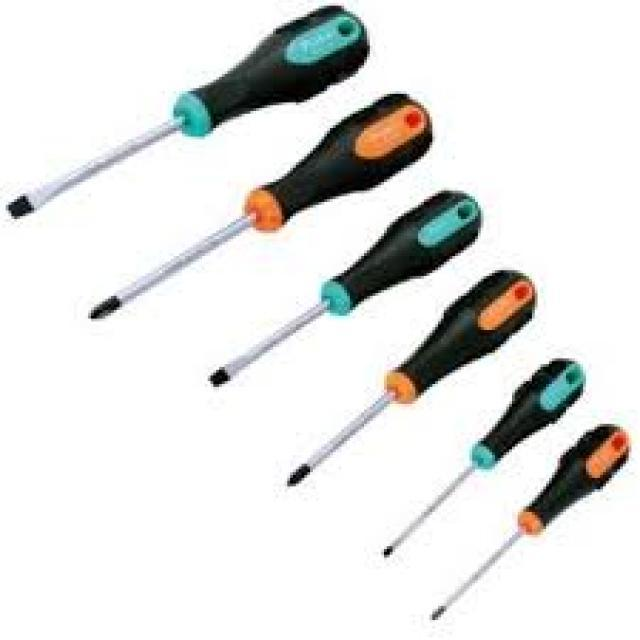screwdriver: (85, 87, 441, 326), (4, 0, 374, 222), (280, 268, 545, 490), (204, 189, 483, 391), (377, 357, 590, 562), (426, 421, 632, 626)
